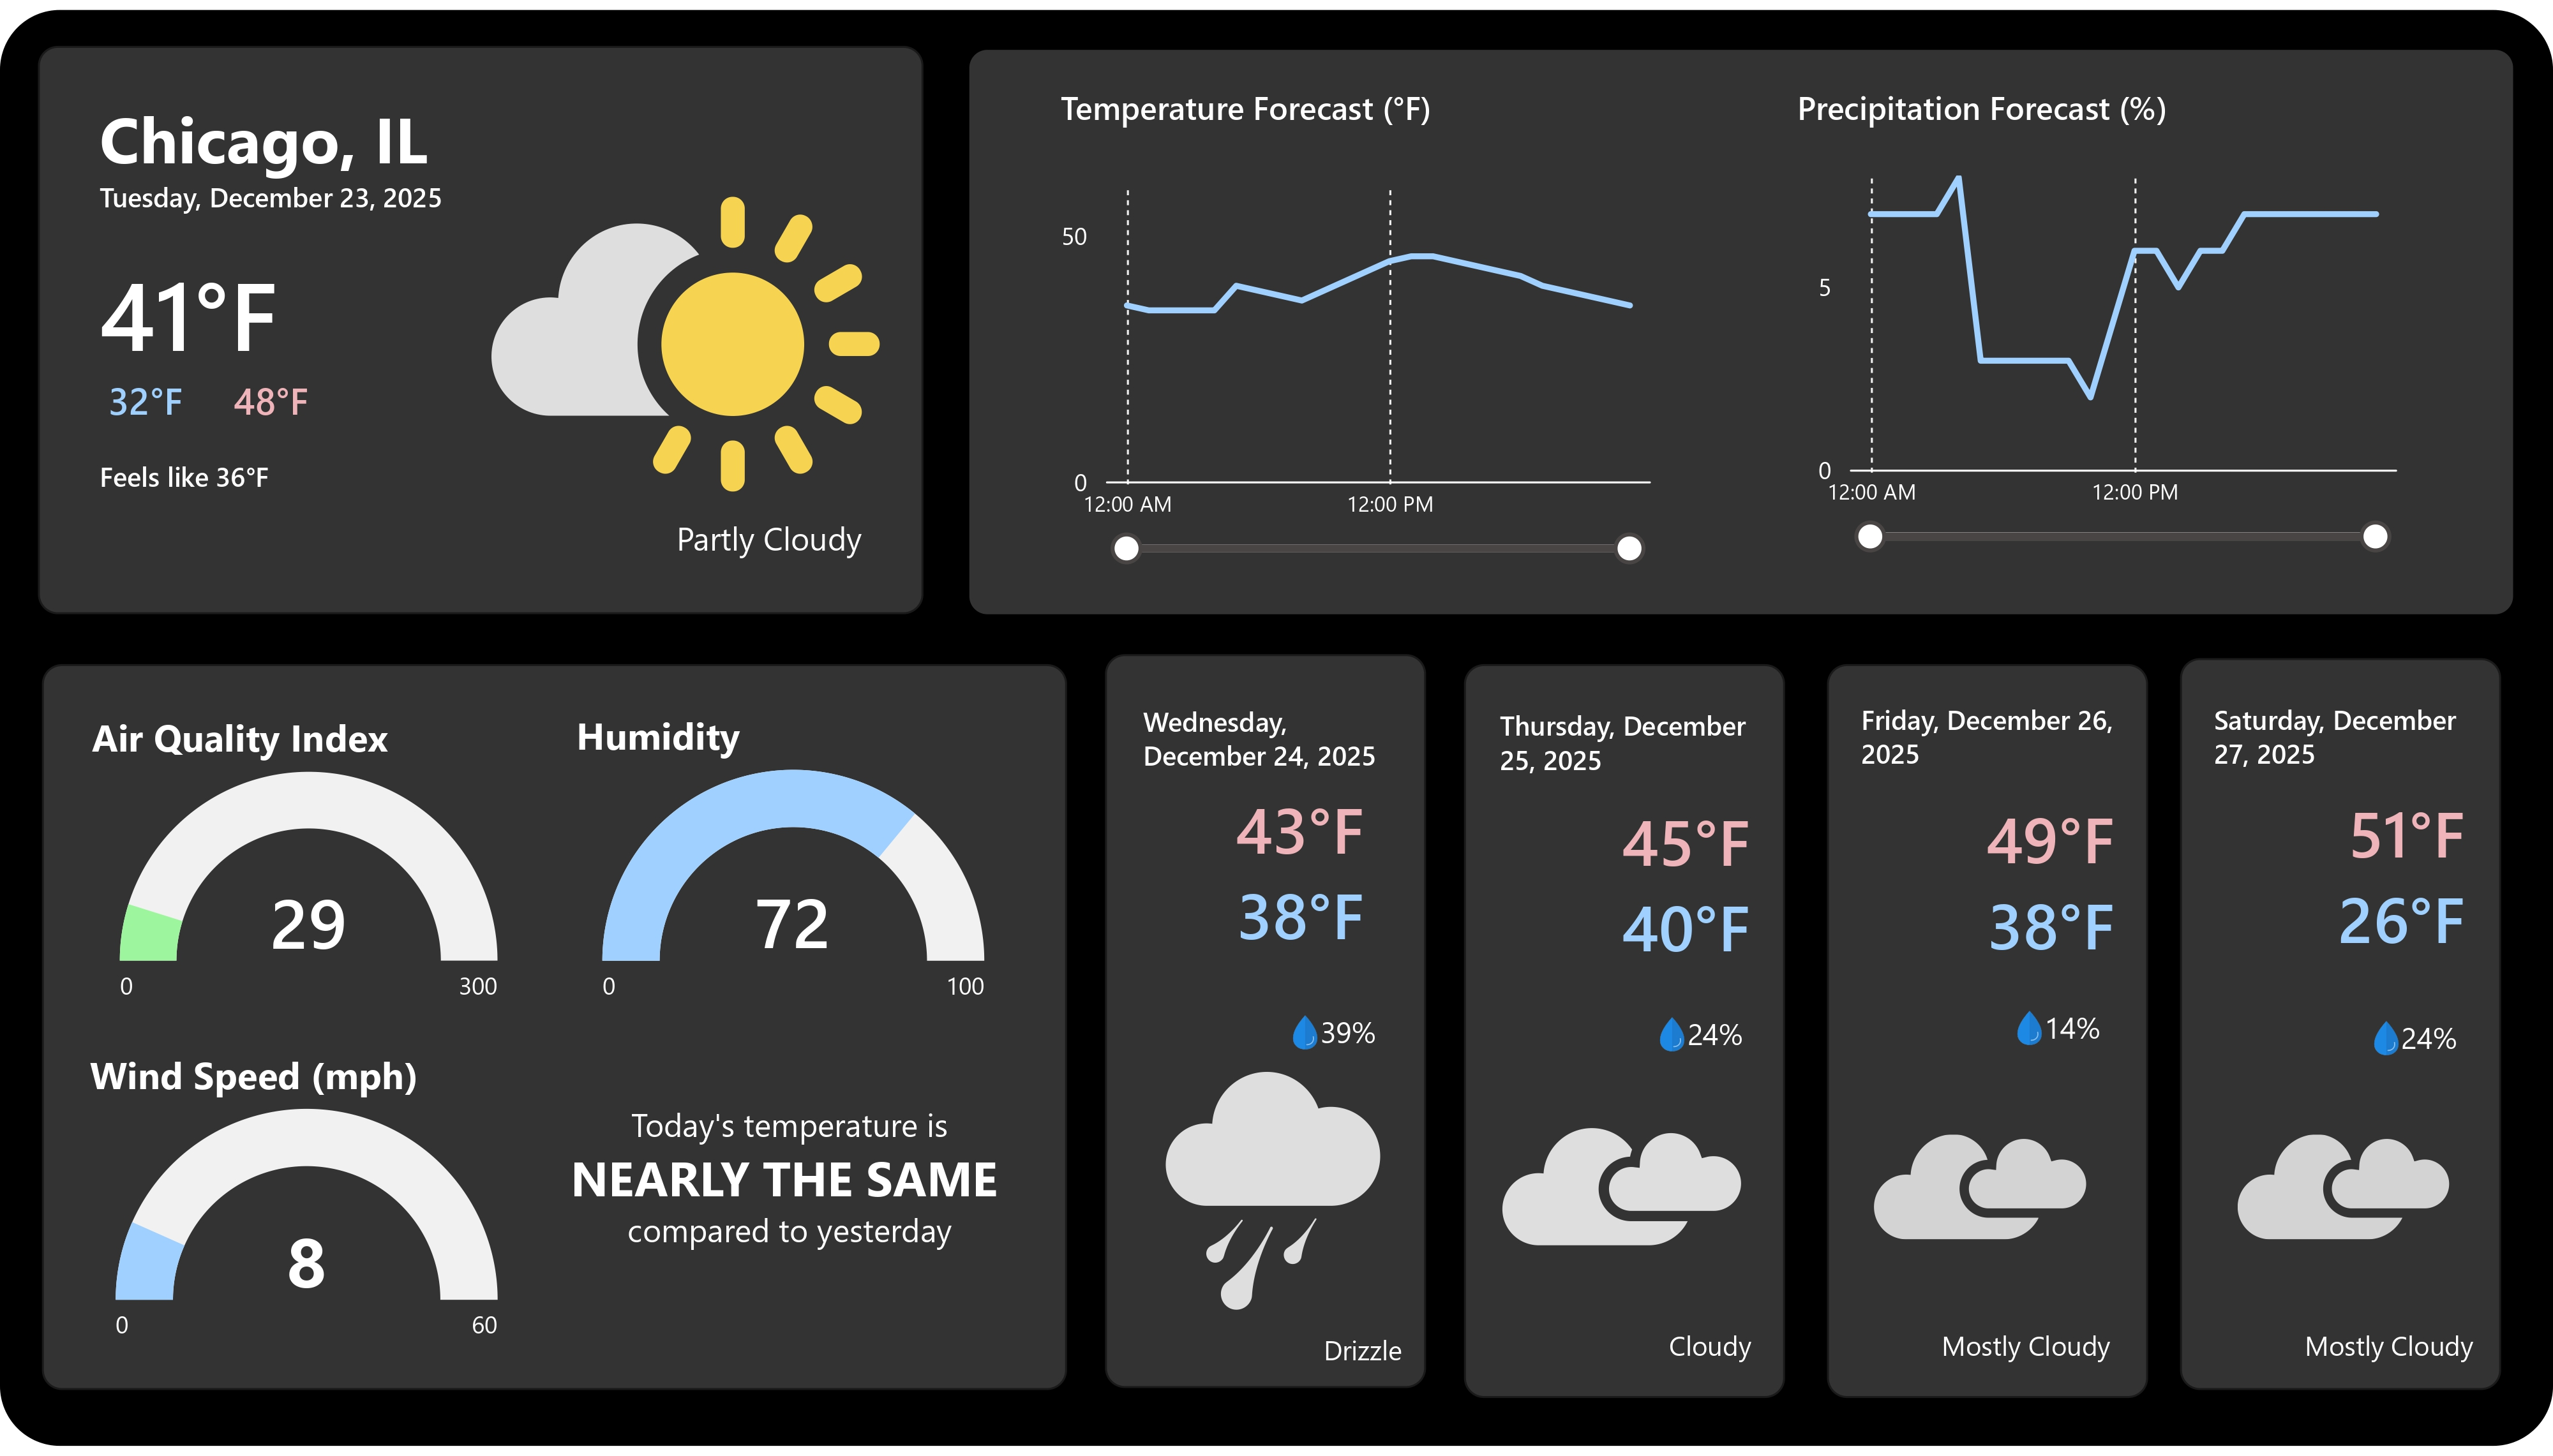

Layout of this report page (visuals, bound fields, positions):
{"tool":"powerbi","page":{"name":"Page 1","canvas":[1280,720],"ordinal":0},"visuals":[{"type":"textbox","box":[0,0,1280,720],"z":0},{"type":"textbox","box":[554.5,323.1,161.2,367.5],"z":0,"group":"g1"},{"type":"textbox","box":[1093.4,325.2,161,367],"z":0,"group":"g16"},{"type":"textbox","box":[734.3,328.4,161.2,367.5],"z":0,"group":"g17"},{"type":"textbox","box":[915.7,328.4,161.2,367.5],"z":0,"group":"g3"},{"type":"textbox","box":[18.6,18.5,443.7,285],"z":1000,"group":"g6"},{"type":"textbox","box":[40,323.4,210.5,99.6],"z":1000},{"type":"textbox","box":[564.5,383.1,125,131.2],"z":1000,"group":"g1"},{"type":"textbox","box":[1121.7,385.2,120,133.3],"z":1000,"group":"g16"},{"type":"textbox","box":[938.2,388.4,126.2,126.2],"z":1000,"group":"g3"},{"type":"textbox","box":[750.5,389.6,132.5,122.5],"z":1000,"group":"g17"},{"type":"image","box":[245.3,74.7,196.4,186.6],"z":2000,"group":"g6"},{"type":"group","id":"g1","title":"Group 1","box":[554.5,323.1,161.2,367.5],"z":2000},{"type":"image","box":[1006,493.7,22.5,33.1],"z":2000,"group":"g14"},{"type":"image","box":[643.3,496.2,22.7,33.3],"z":2000,"group":"g10"},{"type":"image","box":[826.6,497.1,22.5,33.1],"z":2000,"group":"g13"},{"type":"image","box":[1184.9,499,22.7,33.3],"z":2000,"group":"g15"},{"type":"textbox","box":[279.1,249.9,158.1,51.2],"z":3000,"group":"g6"},{"type":"group","id":"g2","title":"Group 1","box":[734.3,328.4,161.2,367.5],"z":3000},{"type":"textbox","box":[1019.8,494.9,41.9,31.2],"z":3000,"group":"g14"},{"type":"textbox","box":[657.3,497.5,41.3,31.3],"z":3000,"group":"g10"},{"type":"textbox","box":[840.4,498.3,41.9,31.2],"z":3000,"group":"g13"},{"type":"textbox","box":[1198.9,500.3,41.3,31.3],"z":3000,"group":"g15"},{"type":"group","id":"g3","title":"Group 1","box":[915.7,328.4,161.2,367.5],"z":4000},{"type":"image","box":[752.7,530,120,120],"z":4000,"group":"g9"},{"type":"image","box":[933.2,530,120,120],"z":4000,"group":"g8"},{"type":"image","box":[1114.9,530.3,120,120],"z":4000,"group":"g12"},{"type":"image","box":[578.4,531.8,120,120],"z":4000,"group":"g11"},{"type":"textbox","box":[485,18.8,776.2,285],"z":5000,"group":"g5"},{"type":"group","id":"g4","title":"Group 1","box":[1093.4,325.2,161,367],"z":5000},{"type":"textbox","box":[786,629.8,90,31.2],"z":5000,"group":"g17"},{"type":"textbox","box":[777.7,656.2,105,45],"z":5000,"group":"g9"},{"type":"textbox","box":[958.2,656.2,105,45],"z":5000,"group":"g8"},{"type":"textbox","box":[1139.9,656.5,105,45],"z":5000,"group":"g12"},{"type":"textbox","box":[603.4,658,105,45],"z":5000,"group":"g11"},{"type":"group","id":"g5","title":"Group 4","box":[485,18.8,776.2,285],"z":6000},{"type":"lineChart","fields":{"Y":["Sum(p1_forecast_hour.temperature)"],"Category":["p1_forecast_hour.hour"]},"box":[527,75.2,317.2,205.9],"z":6000,"group":"g5"},{"type":"lineChart","fields":{"Y":["Sum(p1_forecast_hour.temperature)"],"Category":["p1_forecast_hour.hour"]},"box":[42,56.4,317.2,205.9],"z":7000},{"type":"textbox","box":[527,32.9,260.5,42.3],"z":8000,"group":"g5"},{"type":"lineChart","fields":{"Category":["p1_forecast_hour.hour"],"Y":["Sum(p1_forecast_hour.precip hour)"]},"box":[900,70,318.3,205],"z":8000},{"type":"group","id":"g6","title":"Group 5","box":[18.6,18.5,443.7,285],"z":9000},{"type":"textbox","box":[895.7,32.9,260.5,42.3],"z":9000,"group":"g5"},{"type":"group","id":"g7","title":"Group 6","box":[21.2,327.5,513.8,363.8],"z":10000},{"type":"textbox","box":[21.2,327.5,513.8,363.8],"z":10000,"group":"g7"},{"type":"gauge","title":"Wind Speed (mph)","fields":{"Y":["Sum(p1_variables.wind speed)"]},"box":[40,521.2,227.5,156.2],"z":11000},{"type":"gauge","title":"Air Quality Index","fields":{"Y":["Sum(p1_variables.air quality index)"]},"box":[41.2,351.1,227.5,155.2],"z":12000,"group":"g7"},{"type":"gauge","title":"Humidity","fields":{"Y":["Sum(p1_variables.humidity)"]},"box":[283.8,351.2,227.5,156.2],"z":12000},{"type":"group","id":"g8","title":"Group 7","box":[933.2,530,130,171.2],"z":13000},{"type":"textbox","box":[280.9,506.5,230,160],"z":14000,"group":"g7"},{"type":"group","id":"g9","title":"Group 7","box":[752.7,530,130,171.2],"z":14000},{"type":"group","id":"g10","title":"Group 8","box":[643.3,496.2,55.3,33.3],"z":14001,"group":"g1"},{"type":"textbox","box":[45,37.9,224.1,247],"z":15000,"group":"g6"},{"type":"group","id":"g11","title":"Group 7","box":[578.4,531.8,130,171.2],"z":15000},{"type":"group","id":"g12","title":"Group 7","box":[1114.9,530.3,130,171.2],"z":16000},{"type":"group","id":"g13","title":"Group 8","box":[826.6,497.1,55,33.8],"z":17000},{"type":"group","id":"g14","title":"Group 8","box":[1006,493.7,55.3,34],"z":18000},{"type":"group","id":"g15","title":"Group 8","box":[1184.9,499,55.3,33.3],"z":19000},{"type":"group","id":"g16","title":"Group 3","box":[1093.4,325.2,161,367],"z":19001,"group":"g4"},{"type":"group","id":"g17","title":"Group 2","box":[734.3,328.4,161.2,367.5],"z":19001,"group":"g2"},{"type":"textbox","box":[568.3,343.3,140,61.7],"z":20000},{"type":"textbox","box":[746.7,345,140,61.7],"z":21000},{"type":"textbox","box":[928.3,341.7,140,61.7],"z":22000},{"type":"textbox","box":[1105,341.7,140,61.7],"z":23000}]}

Visuals, with their boxes in screenshot pixels (x1, y1, x2, y2), scaled from the page's 1280x720 canvas onto the 2553x1456 screenshot:
textbox: BBox(0, 0, 2552, 1455)
textbox: BBox(1106, 653, 1428, 1397)
textbox: BBox(2181, 658, 2502, 1400)
textbox: BBox(1465, 664, 1786, 1408)
textbox: BBox(1827, 664, 2148, 1408)
textbox: BBox(37, 38, 922, 614)
textbox: BBox(80, 654, 500, 856)
textbox: BBox(1126, 775, 1375, 1040)
textbox: BBox(2237, 779, 2476, 1048)
textbox: BBox(1871, 785, 2123, 1041)
textbox: BBox(1497, 788, 1761, 1036)
image: BBox(490, 151, 881, 528)
"Group 1" group: BBox(1106, 653, 1428, 1397)
image: BBox(2007, 999, 2051, 1066)
image: BBox(1283, 1004, 1328, 1071)
image: BBox(1649, 1006, 1693, 1072)
image: BBox(2363, 1009, 2409, 1076)
textbox: BBox(557, 505, 872, 609)
"Group 1" group: BBox(1465, 664, 1786, 1408)
textbox: BBox(2034, 1001, 2118, 1064)
textbox: BBox(1311, 1006, 1393, 1069)
textbox: BBox(1676, 1007, 1760, 1071)
textbox: BBox(2392, 1012, 2474, 1075)
"Group 1" group: BBox(1827, 664, 2148, 1408)
image: BBox(1501, 1072, 1741, 1314)
image: BBox(1861, 1072, 2100, 1314)
image: BBox(2224, 1073, 2463, 1315)
image: BBox(1154, 1076, 1393, 1318)
textbox: BBox(968, 38, 2515, 614)
"Group 1" group: BBox(2181, 658, 2502, 1400)
textbox: BBox(1568, 1274, 1748, 1337)
textbox: BBox(1551, 1327, 1760, 1418)
textbox: BBox(1911, 1327, 2120, 1418)
textbox: BBox(2273, 1328, 2483, 1418)
textbox: BBox(1204, 1330, 1413, 1422)
"Group 4" group: BBox(968, 38, 2515, 614)
lineChart - Sum(p1_forecast_hour.temperature) x p1_forecast_hour.hour: BBox(1051, 152, 1684, 568)
lineChart - Sum(p1_forecast_hour.temperature) x p1_forecast_hour.hour: BBox(84, 114, 716, 530)
textbox: BBox(1051, 66, 1571, 152)
lineChart - p1_forecast_hour.hour x Sum(p1_forecast_hour.precip hour): BBox(1795, 142, 2430, 556)
"Group 5" group: BBox(37, 38, 922, 614)
textbox: BBox(1786, 66, 2306, 152)
"Group 6" group: BBox(42, 662, 1067, 1398)
textbox: BBox(42, 662, 1067, 1398)
"Wind Speed (mph)" gauge: BBox(80, 1054, 534, 1370)
"Air Quality Index" gauge: BBox(82, 710, 536, 1024)
"Humidity" gauge: BBox(566, 710, 1020, 1026)
"Group 7" group: BBox(1861, 1072, 2120, 1418)
textbox: BBox(560, 1024, 1019, 1348)
"Group 7" group: BBox(1501, 1072, 1760, 1418)
"Group 8" group: BBox(1283, 1004, 1393, 1071)
textbox: BBox(90, 77, 537, 576)
"Group 7" group: BBox(1154, 1076, 1413, 1422)
"Group 7" group: BBox(2224, 1073, 2483, 1418)
"Group 8" group: BBox(1649, 1006, 1758, 1074)
"Group 8" group: BBox(2007, 999, 2117, 1067)
"Group 8" group: BBox(2363, 1009, 2474, 1076)
"Group 3" group: BBox(2181, 658, 2502, 1400)
"Group 2" group: BBox(1465, 664, 1786, 1408)
textbox: BBox(1134, 694, 1412, 819)
textbox: BBox(1489, 697, 1769, 822)
textbox: BBox(1852, 691, 2130, 816)
textbox: BBox(2204, 691, 2483, 816)
